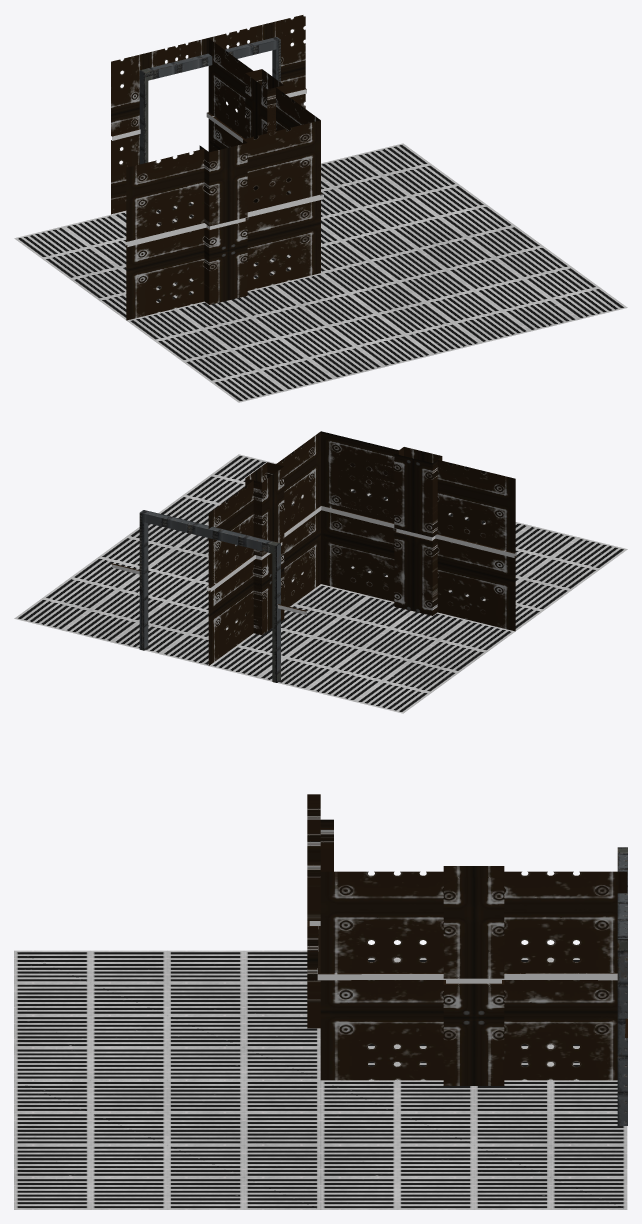
File: ModularProps (1).fbx
3 renders of one model, top to bottom at view 1: azimuth 30°, elevation 25°; view 2: azimuth 150°, elevation 25°; view 3: azimuth 270°, elevation 25°, orthographic. The views are drawn at different scales.
Parts seen in each view (by area): view 1: Ground_Corner, WallCorner_In, Wall_Door, Ground, Wall_Straight, WallCorner_Out; view 2: Ground_Corner, WallCorner_In, Ground, Wall_Straight, WallCorner_Out, Wall_Door; view 3: Ground_Corner, WallCorner_In, Wall_Door, WallCorner_Out, Wall_Straight.
Part boxes in pixels (x1=…): Ground_Corner: x1=126, y1=143, x2=627, y2=402; WallCorner_In: x1=125, y1=69, x2=320, y2=320; Wall_Door: x1=111, y1=15, x2=306, y2=214; Ground: x1=14, y1=202, x2=290, y2=319; Wall_Straight: x1=208, y1=38, x2=322, y2=202; WallCorner_Out: x1=127, y1=51, x2=323, y2=246; Ground_Corner: x1=14, y1=454, x2=627, y2=665; WallCorner_In: x1=209, y1=441, x2=515, y2=631; Ground: x1=209, y1=584, x2=515, y2=713; Wall_Straight: x1=208, y1=431, x2=320, y2=665; WallCorner_Out: x1=206, y1=431, x2=516, y2=652; Wall_Door: x1=111, y1=510, x2=306, y2=682; Ground_Corner: x1=14, y1=950, x2=627, y2=1209; WallCorner_In: x1=307, y1=794, x2=627, y2=1085; Wall_Door: x1=617, y1=847, x2=627, y2=1125; WallCorner_Out: x1=317, y1=819, x2=617, y2=980; Wall_Straight: x1=320, y1=866, x2=617, y2=974.
Size of the model in its own units: 800 by 300 by 801.
4 materials, 3 textured.
